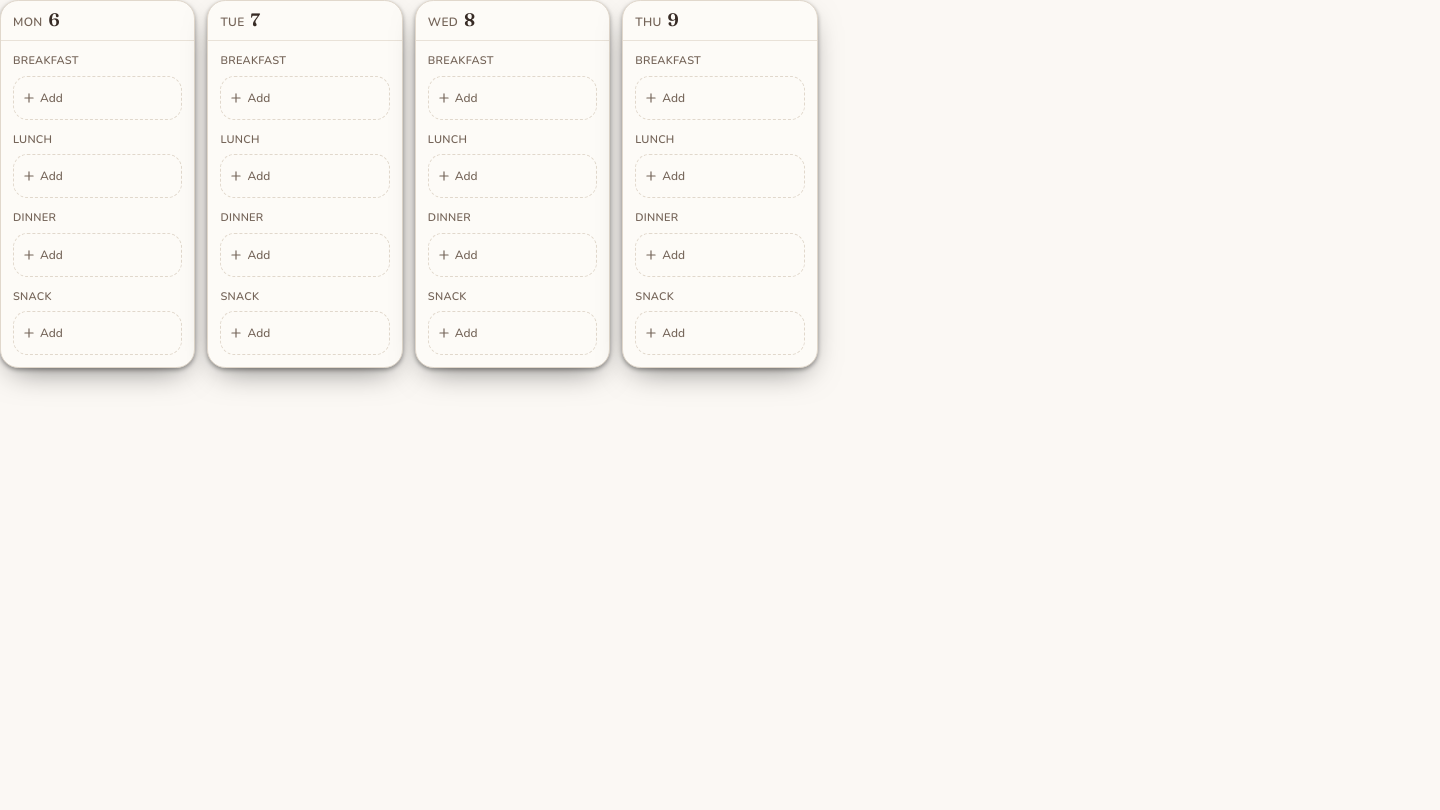
Test: PlannerBoard. Batch cook / leftovers (#380) › prefills the latest serving count ahead of the recipe default
Click the button with aria-label "add to breakfast on monday": (98, 98) [13,76,182,120]
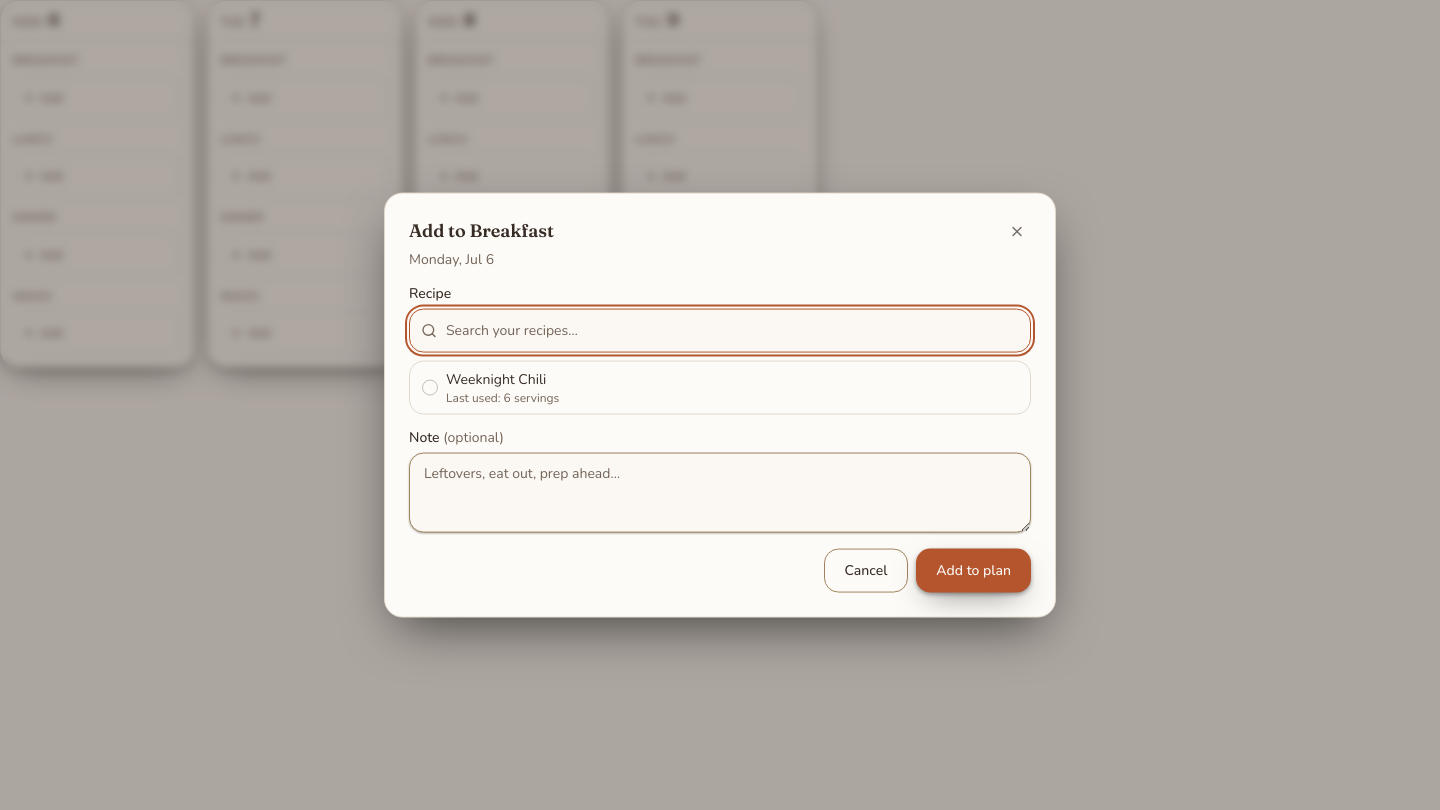
Click the button "Weeknight Chili Last used: 6 servings": (496, 379) [410,361,1030,413]
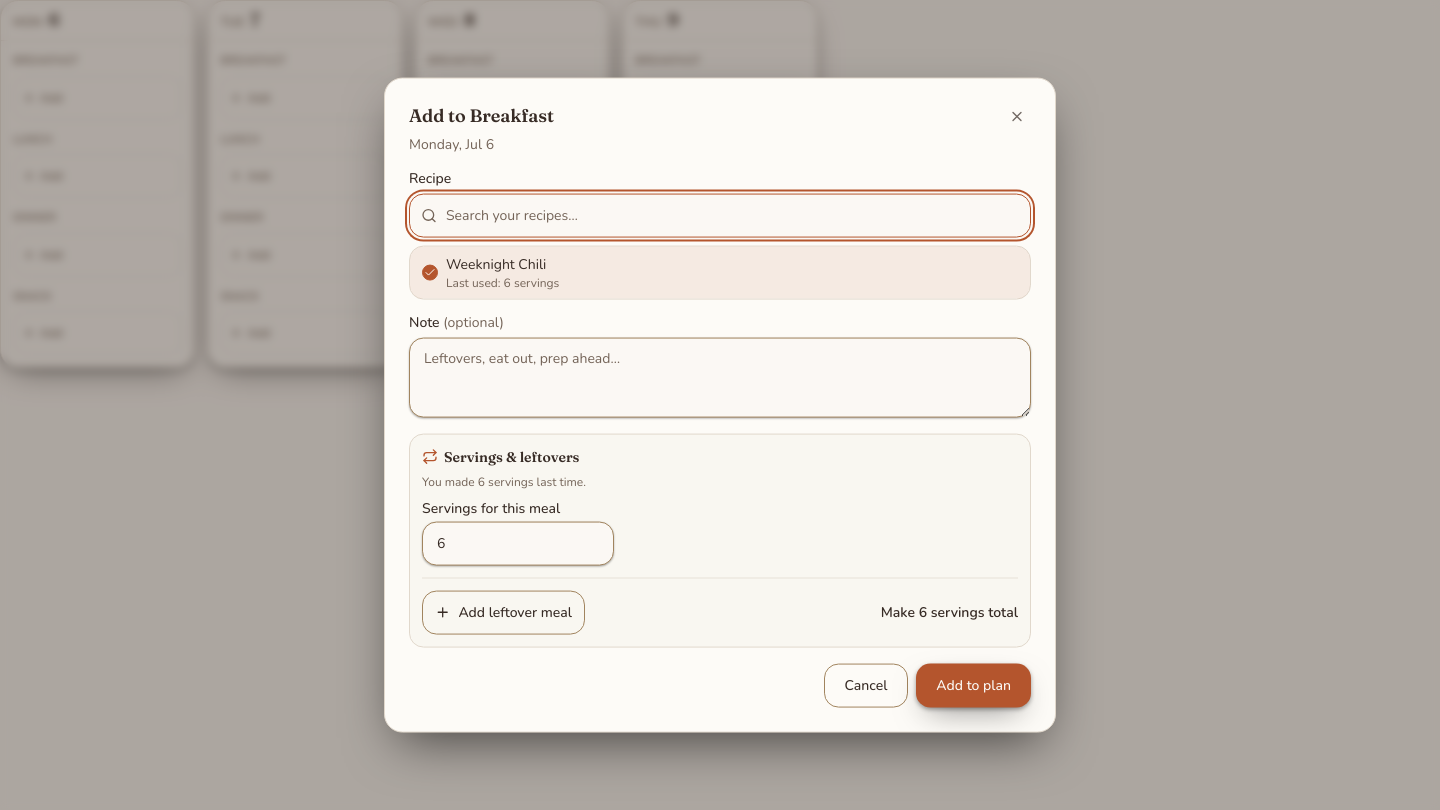
Expected: the number field labelled "Servings for this meal" holds "6", [422,521,614,565]
Expected: the text "You made 6 servings last time." is shown, [422,473,586,489]
